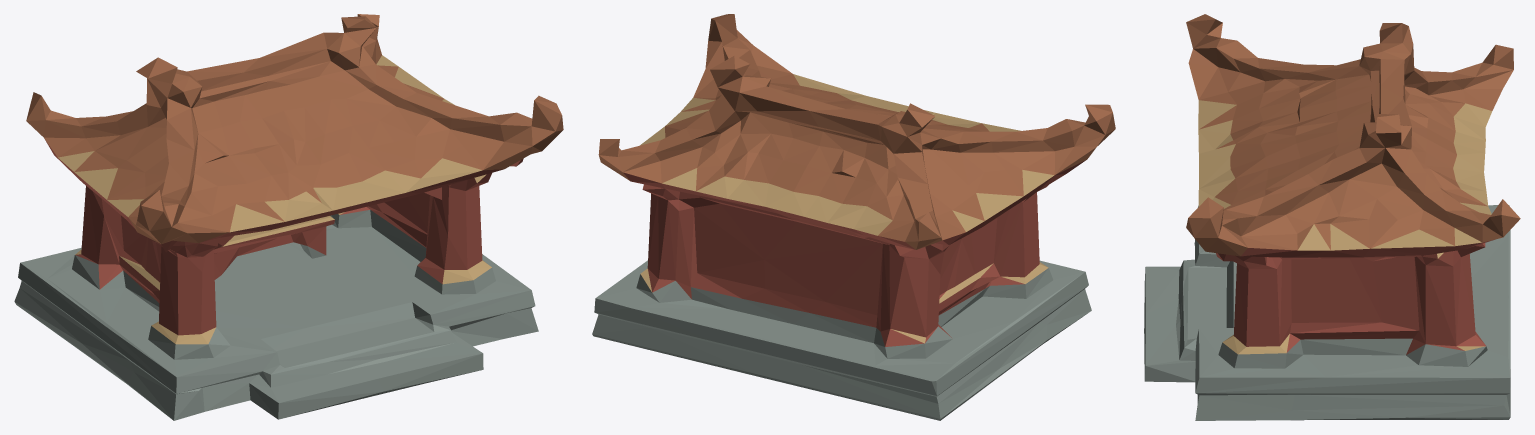
File: whale_shrine.glb
3 views of the same model, side by side, from view 1: azimuth 30°, elevation 25°; view 2: azimuth 150°, elevation 25°; view 3: azimuth 270°, elevation 25° (orthographic). The views are drawn at different scales.
Parts seen in each view (by area): view 1: whale_shrine; view 2: whale_shrine; view 3: whale_shrine.
Boxes of the visible parts, x1,y1,x2,y2 form: whale_shrine: (14, 14, 563, 420); whale_shrine: (592, 14, 1115, 420); whale_shrine: (1144, 14, 1520, 420).
Size of the model in its own units: 2.8 by 1.7 by 2.2.
